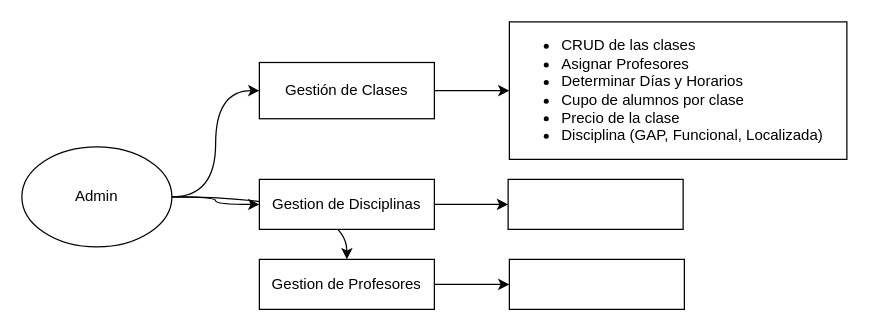
Some shapes in this 869 by 331 pixel diagram are drawn without their labels. Here are the shapes that lost their labels. From the top down, the box of each, then its label:
(507, 178, 683, 229): CRUD Disciplinas
(508, 258, 684, 309): CRUD Profesores
